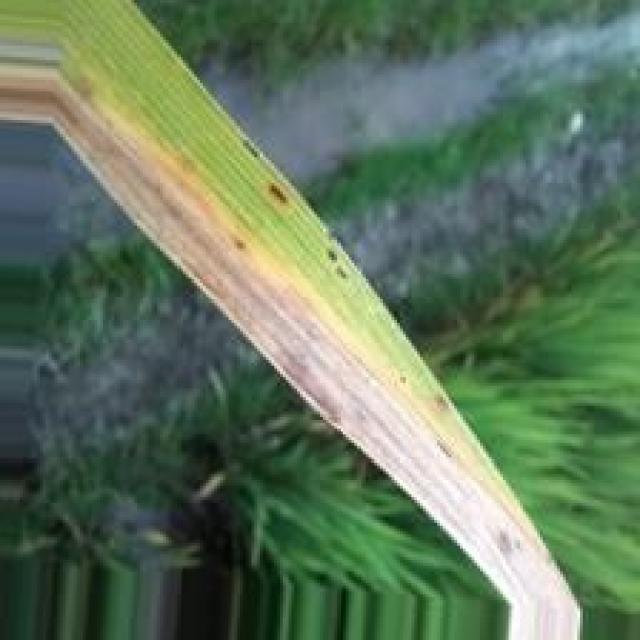Rice False Smut: (52, 71, 550, 609)
